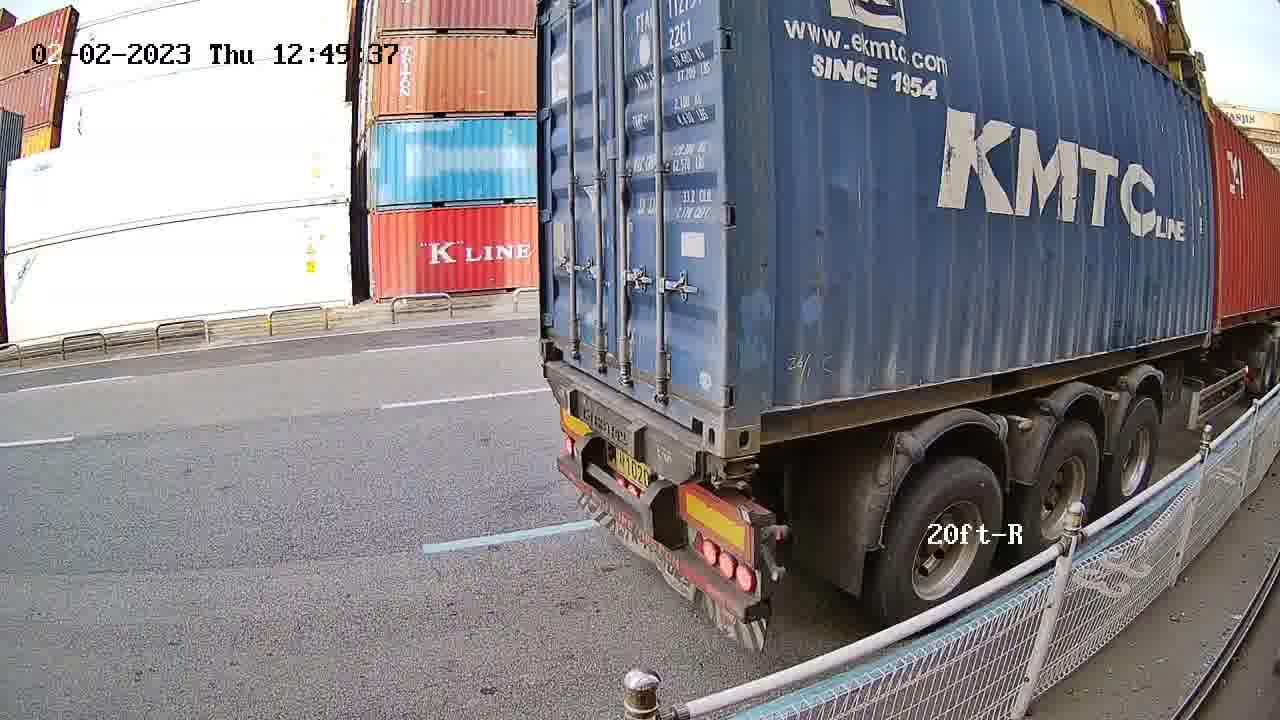Chassis: (542, 364, 753, 486)
Cone: (709, 456, 762, 495)
Hole_L: (723, 384, 788, 455), (539, 314, 569, 366)
Hole_R: (675, 374, 725, 454)
Tire: (887, 462, 1005, 632), (1023, 426, 1102, 562), (1111, 401, 1161, 518)
